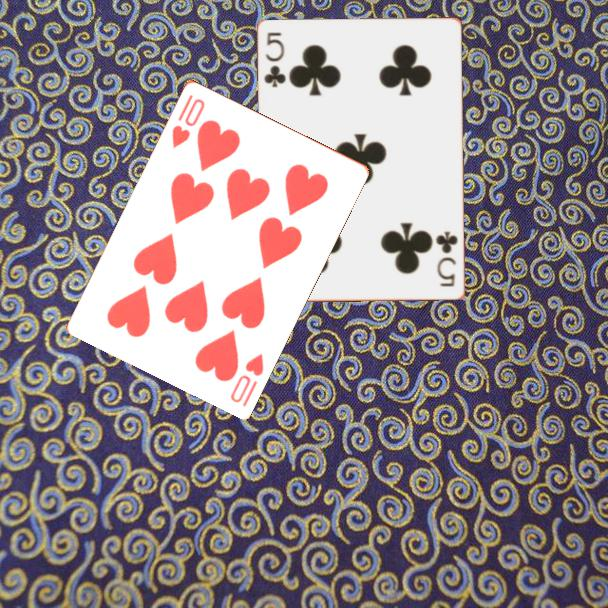c05: (433, 228, 461, 290), (261, 29, 289, 90)
h10: (168, 90, 208, 151), (227, 350, 267, 409)
